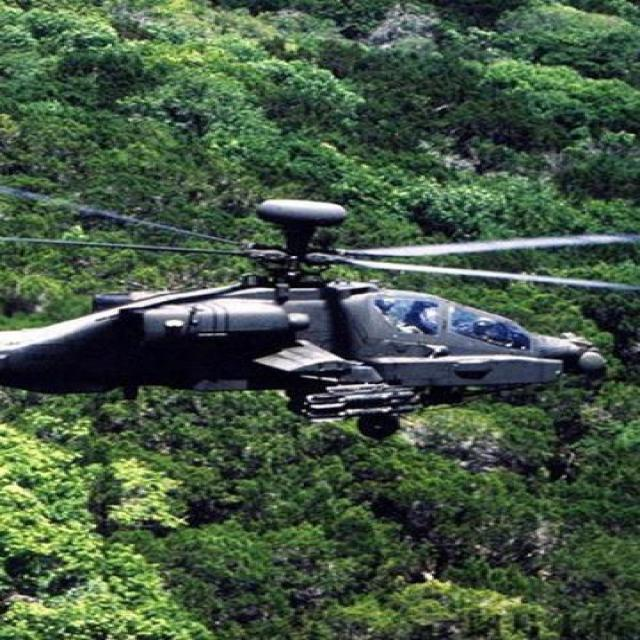MIL_HELO: (0, 170, 640, 452)
